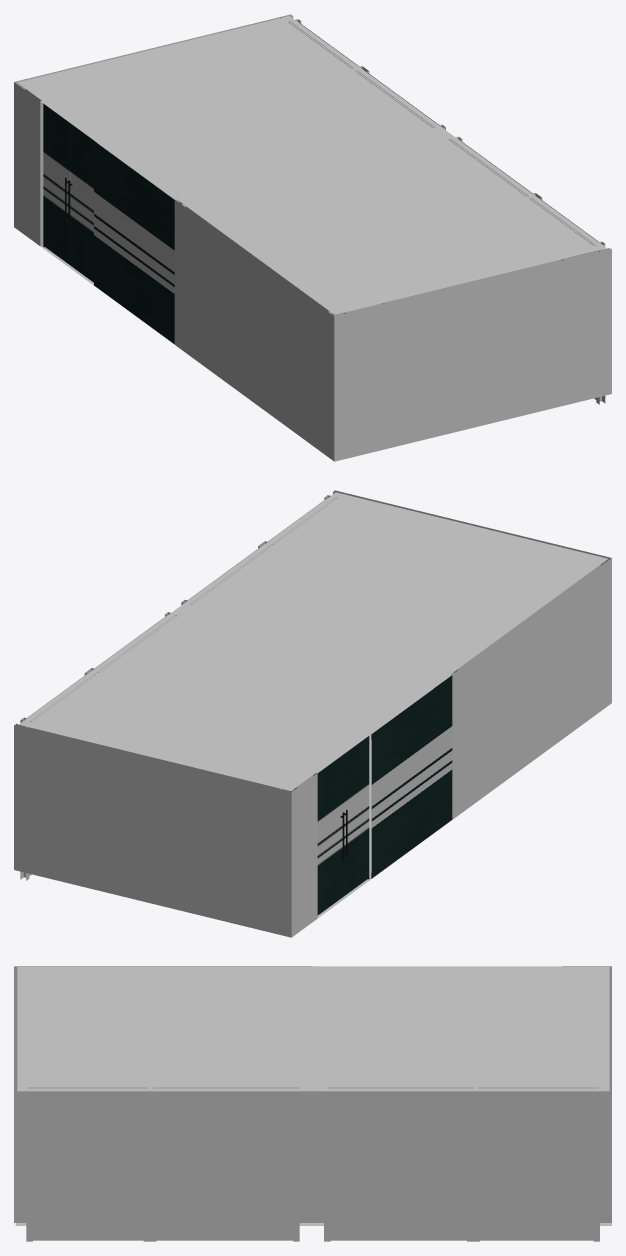
File: Meeting_room_2_v01.fbx
3 renders of one model, top to bottom at view 1: azimuth 30°, elevation 25°; view 2: azimuth 150°, elevation 25°; view 3: azimuth 270°, elevation 25°, orthographic. The views are drawn at different scales.
Visible parts, largest first — view 1: Ceiling_meeting, Meeting_room_wall1, Meeting_room_wall2, Door_L2, Door_L1, Door_R1, Meeting_room_wall; view 2: Ceiling_meeting, Meeting_room_wall, Meeting_room_wall2, Door_L2, Door_R1, Door_L1, Floor_meeting, Meeting_room_wall1; view 3: Ceiling_meeting, Manager_rrom_1:Window_3m_B, Window_3m_B2, Window_3m_B1, Window_3m_B, Pillers4, Pillers5, Pillers3, Meeting_room_wall2.
Part boxes in pixels (<box>): Ceiling_meeting: <box>17,16,606,314</box>; Meeting_room_wall1: <box>333,248,611,461</box>; Meeting_room_wall2: <box>14,82,334,461</box>; Door_L2: <box>94,141,174,343</box>; Door_L1: <box>43,103,70,264</box>; Door_R1: <box>68,123,96,282</box>; Meeting_room_wall: <box>14,14,293,192</box>; Ceiling_meeting: <box>19,492,607,790</box>; Meeting_room_wall: <box>14,723,292,937</box>; Meeting_room_wall2: <box>291,558,611,937</box>; Door_L2: <box>371,675,452,878</box>; Door_R1: <box>342,736,369,896</box>; Door_L1: <box>317,755,344,915</box>; Floor_meeting: <box>317,689,451,918</box>; Meeting_room_wall1: <box>333,490,611,562</box>; Ceiling_meeting: <box>17,967,609,1091</box>; Manager_rrom_1:Window_3m_B: <box>150,1091,299,1241</box>; Window_3m_B2: <box>324,1091,473,1241</box>; Window_3m_B1: <box>473,1091,599,1241</box>; Window_3m_B: <box>26,1091,150,1241</box>; Pillers4: <box>299,1091,323,1222</box>; Pillers5: <box>14,1087,26,1222</box>; Pillers3: <box>600,1087,611,1222</box>; Meeting_room_wall2: <box>14,966,611,971</box>.
Bounding box in the file's own units: 601 × 331 × 1200.
